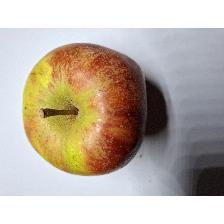Apfel: (16, 39, 150, 179)
